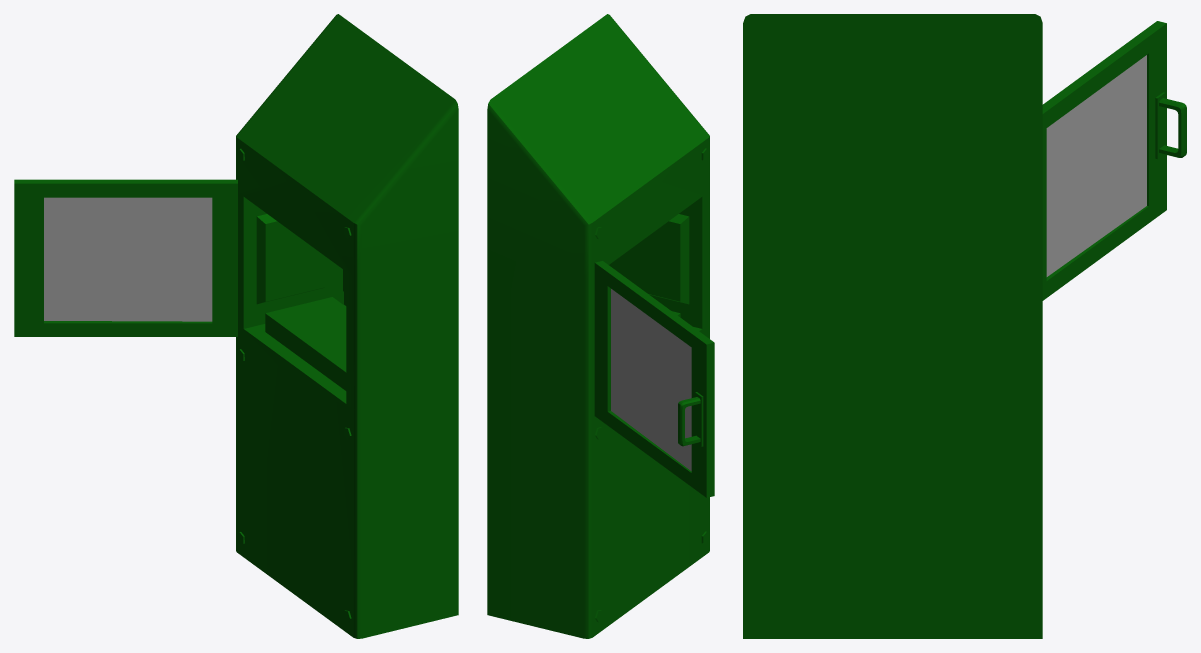
File: Oven.fbx
The picture shows the model from 3 angles, left to right: view 1: azimuth 30°, elevation 25°; view 2: azimuth 150°, elevation 25°; view 3: azimuth 270°, elevation 25°; orthographic projection. The views are drawn at different scales.
Parts seen in each view (by area): view 1: Oven_Base, Glass, Oven_Door; view 2: Oven_Base, Glass, Oven_Door, GRAB_ME_Door; view 3: Oven_Base, Glass, Oven_Door, GRAB_ME_Door.
Part boxes in pixels (left/top/right/bottom): Oven_Base: left=236, top=14, right=458, bottom=638; Glass: left=44, top=197, right=212, bottom=321; Oven_Door: left=14, top=179, right=237, bottom=336; Oven_Base: left=487, top=14, right=709, bottom=638; Glass: left=611, top=289, right=691, bottom=471; Oven_Door: left=594, top=261, right=714, bottom=497; GRAB_ME_Door: left=678, top=392, right=703, bottom=446; Oven_Base: left=743, top=14, right=1042, bottom=638; Glass: left=1046, top=55, right=1146, bottom=276; Oven_Door: left=1042, top=21, right=1166, bottom=300; GRAB_ME_Door: left=1155, top=92, right=1186, bottom=158.
Size of the model in its own units: 151 by 269 by 173.
